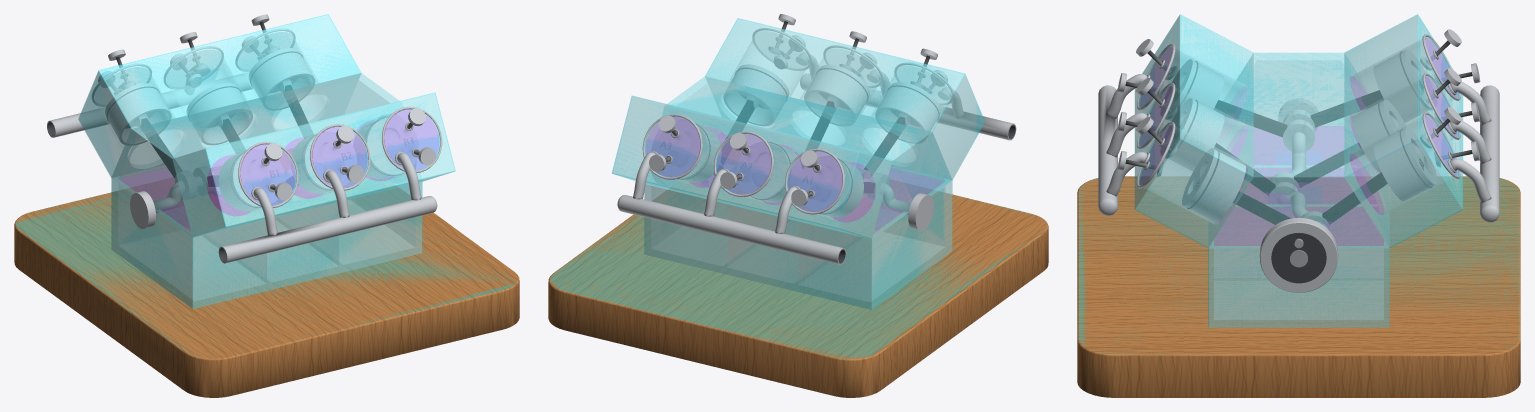
Rendered from world0_scene_2_engine.glb.
3 renders of one model, left to right at view 1: azimuth 30°, elevation 25°; view 2: azimuth 150°, elevation 25°; view 3: azimuth 270°, elevation 25°, orthographic. The views are drawn at different scales.
Visible parts, largest first — view 1: E01_plinth_mesh, E05_bank_A_mesh, UFM_E05_outer, E02_lower_case_mesh, UFM_E02_outer, E04_upper_case_mesh, E06_bank_B_mesh, UFM_E06_outer, UFM_E04_outer, UFM_E01_top, E14_head_B_discs, UFM_E14_discs (+18 smaller); view 2: E01_plinth_mesh, UFM_E01_top, E06_bank_B_mesh, UFM_E06_outer, E02_lower_case_mesh, UFM_E02_outer, E04_upper_case_mesh, E05_bank_A_mesh, UFM_E05_outer, UFM_E04_outer, E13_head_A_discs, UFM_E13_discs (+19 smaller); view 3: E01_plinth_mesh, E04_upper_case_mesh, UFM_E04_outer, E05_bank_A_mesh, UFM_E05_outer, E06_bank_B_mesh, UFM_E06_outer, E02_lower_case_mesh, UFM_E02_outer, UFM_E01_top, E09_piston_mesh, E12_piston_mesh (+28 smaller).
Boxes of the visible parts, x1,y1,x2,y2 form: E01_plinth_mesh: (14, 148, 519, 397); E05_bank_A_mesh: (79, 15, 360, 176); UFM_E05_outer: (78, 14, 361, 177); E02_lower_case_mesh: (112, 178, 421, 308); UFM_E02_outer: (111, 179, 422, 308); E04_upper_case_mesh: (111, 73, 421, 237); E06_bank_B_mesh: (173, 93, 454, 237); UFM_E06_outer: (172, 92, 455, 237); UFM_E04_outer: (112, 73, 398, 236); UFM_E01_top: (16, 193, 515, 357); E14_head_B_discs: (241, 109, 439, 205); UFM_E14_discs: (241, 109, 439, 205); E01_plinth_mesh: (548, 149, 1048, 397); UFM_E01_top: (550, 198, 1041, 358); E06_bank_B_mesh: (705, 19, 984, 179); UFM_E06_outer: (705, 18, 984, 179); E02_lower_case_mesh: (645, 180, 951, 309); UFM_E02_outer: (644, 181, 952, 309); E04_upper_case_mesh: (648, 76, 952, 238); E05_bank_A_mesh: (612, 96, 891, 238); UFM_E05_outer: (612, 96, 891, 238); UFM_E04_outer: (668, 76, 951, 237); E13_head_A_discs: (645, 117, 841, 211); UFM_E13_discs: (645, 116, 841, 211); E01_plinth_mesh: (1077, 176, 1520, 397); E04_upper_case_mesh: (1209, 53, 1388, 247); UFM_E04_outer: (1209, 53, 1388, 247); E05_bank_A_mesh: (1344, 15, 1462, 247); UFM_E05_outer: (1344, 14, 1462, 247); E06_bank_B_mesh: (1135, 15, 1253, 247); UFM_E06_outer: (1135, 14, 1253, 247); E02_lower_case_mesh: (1208, 166, 1389, 327); UFM_E02_outer: (1208, 248, 1389, 327); UFM_E01_top: (1079, 176, 1518, 353); E09_piston_mesh: (1373, 127, 1437, 201); E12_piston_mesh: (1182, 148, 1245, 221).
Size of what is drawn, in the model's own units: 3.68 by 2.24 by 3.85.
7 materials, 1 textured.
